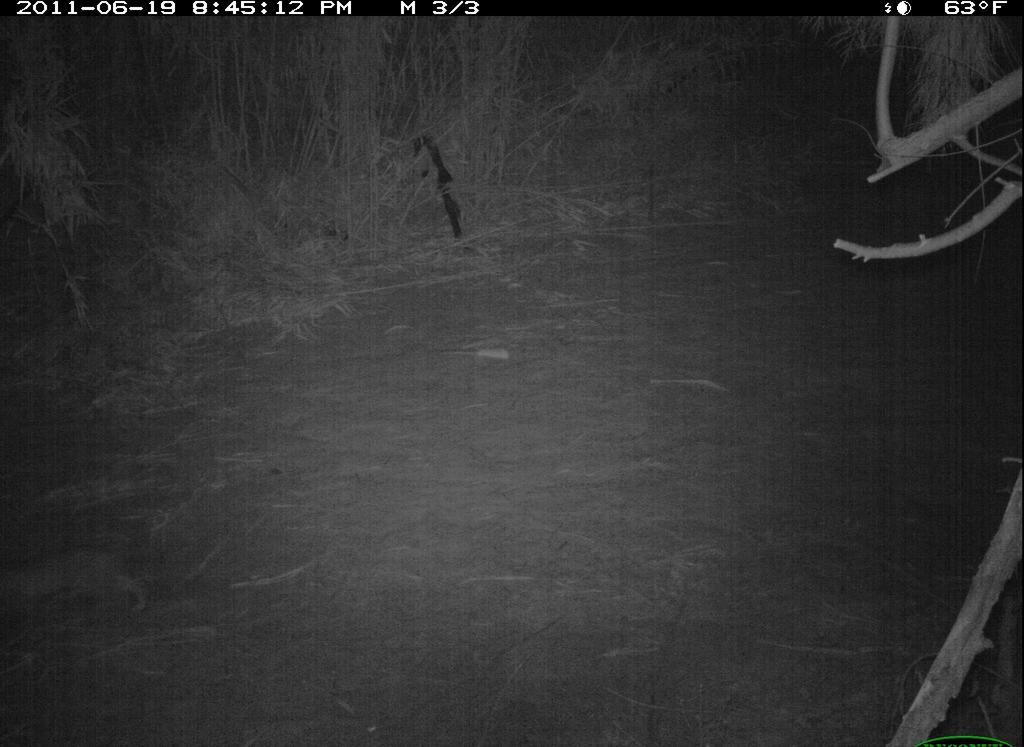bobcat: (1, 519, 175, 649)
